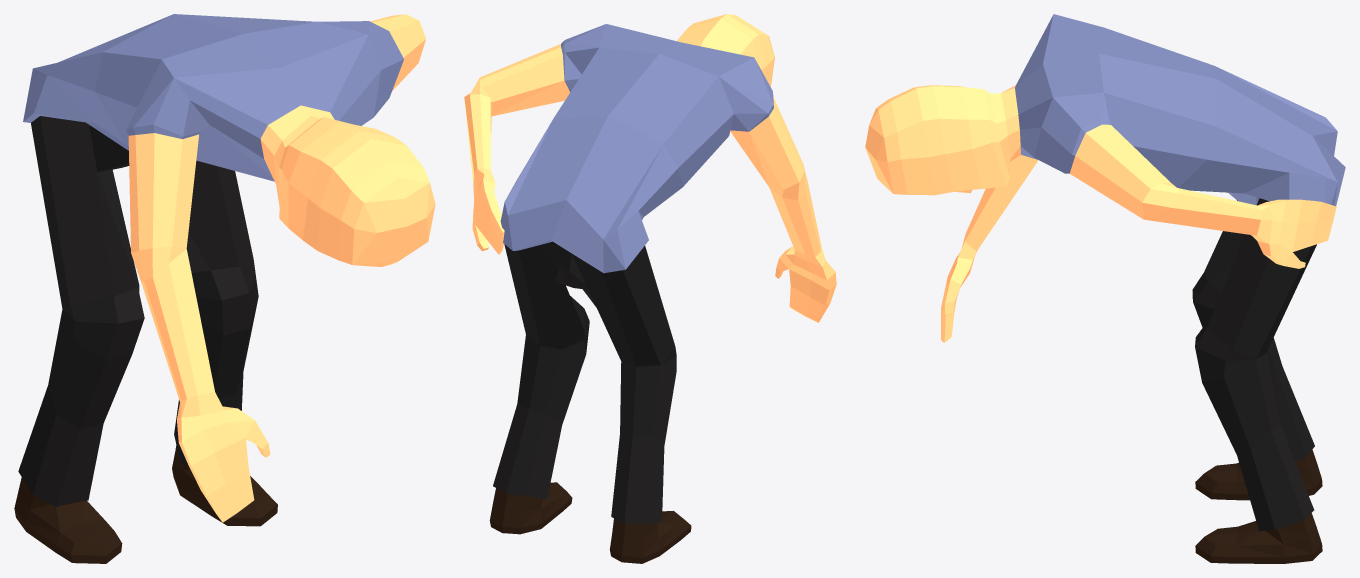
The model's file is male_picking_up.glb.
3 renders of one model, left to right at view 1: azimuth 30°, elevation 25°; view 2: azimuth 150°, elevation 25°; view 3: azimuth 270°, elevation 25°, orthographic. The views are drawn at different scales.
Parts seen in each view (by area): view 1: Male_PickingUp; view 2: Male_PickingUp; view 3: Male_PickingUp.
Boxes of the visible parts, x1=… form: Male_PickingUp: x1=14, y1=14, x2=435, y2=563; Male_PickingUp: x1=464, y1=14, x2=836, y2=563; Male_PickingUp: x1=865, y1=14, x2=1345, y2=563.
Bounding box in the file's own units: 1.26 × 1.85 × 1.71.
